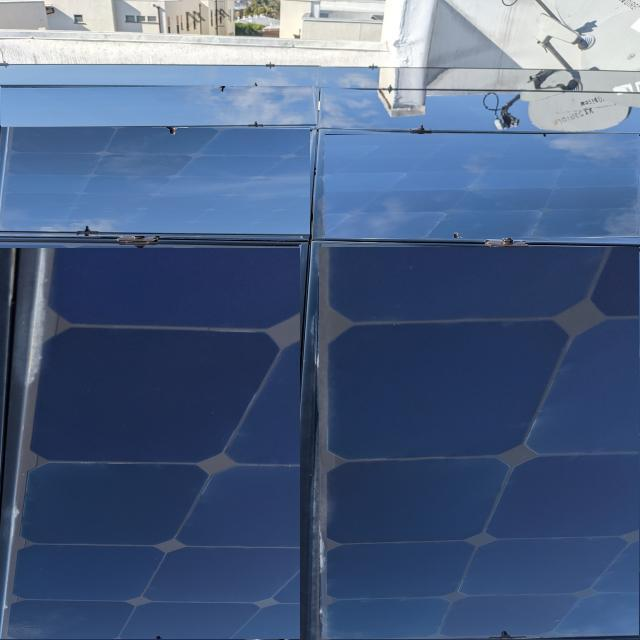Non Defective: (319, 247, 640, 640), (0, 249, 300, 639), (0, 126, 310, 236), (325, 135, 640, 238), (322, 87, 640, 131), (1, 86, 317, 127)
